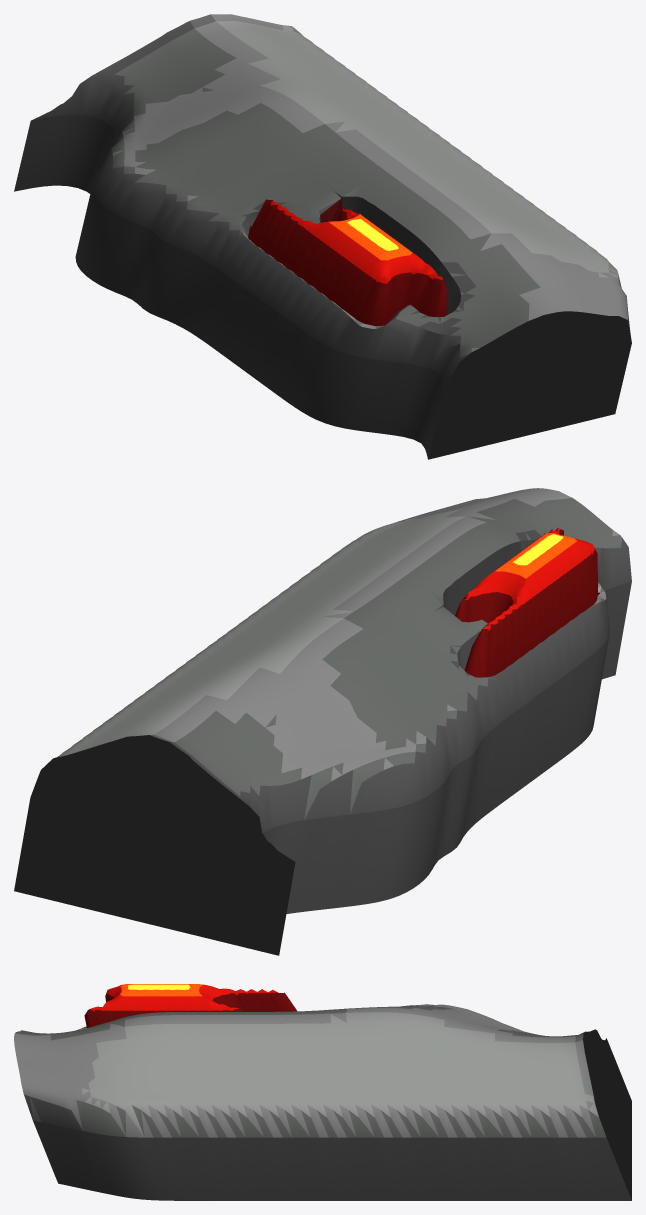
The model's file is pincer_r_side.glb.
3 views of the same model, one above another, from view 1: azimuth 30°, elevation 25°; view 2: azimuth 150°, elevation 25°; view 3: azimuth 270°, elevation 25° (orthographic). The views are drawn at different scales.
Visible parts, largest first — view 1: pincer_r_side; view 2: pincer_r_side; view 3: pincer_r_side.
Part boxes in pixels (x1,y1,x2,y2): pincer_r_side: [14, 14, 631, 459]; pincer_r_side: [14, 488, 631, 955]; pincer_r_side: [14, 984, 631, 1200].
Bounding box in the file's own units: 12.92 × 7.22 × 30.16.
